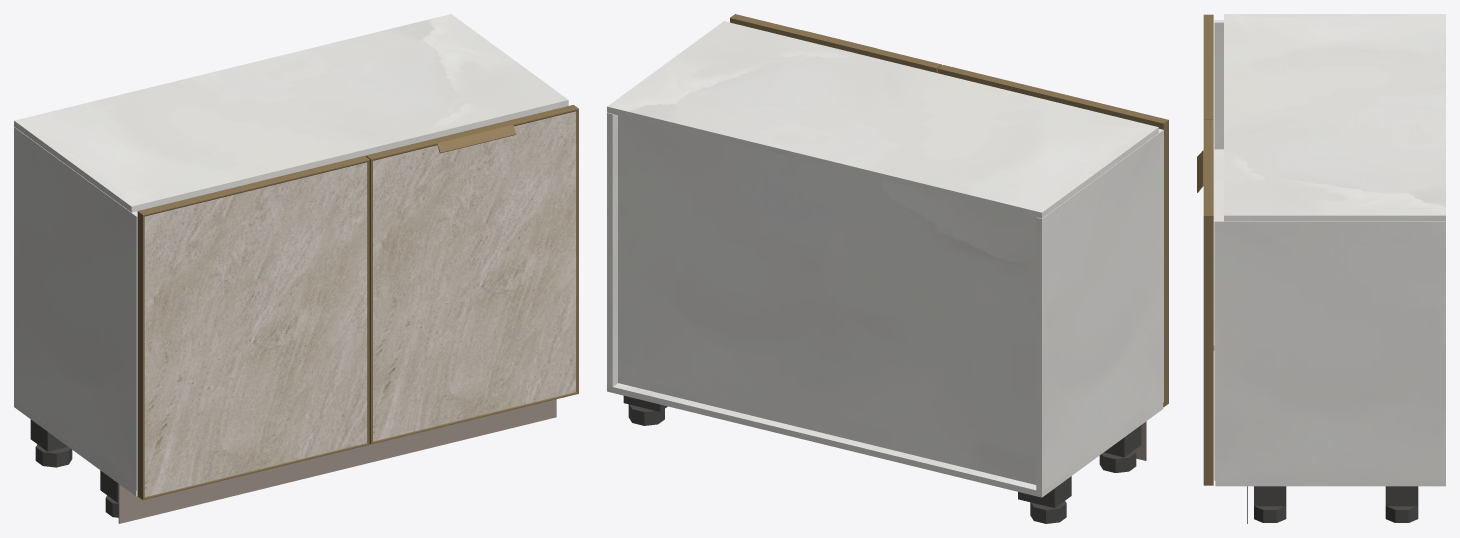
File: BB-SH-TTS-ST-1SX-LHS-XXX-1150-720-560-15.glb
3 renders of one model, left to right at view 1: azimuth 30°, elevation 25°; view 2: azimuth 150°, elevation 25°; view 3: azimuth 270°, elevation 25°, orthographic. The views are drawn at different scales.
Visible parts, largest first — view 1: Object_node_12, Object_node_14, TP_node_1, TP_node, Object_node_16, Extrusion_node_1, Extrusion, ExtrSplGeo, Extrusion_node_8, Extrusion_node, Extrusion_node_6, TP (+3 smaller); view 2: TP_node_3, TP_node_1, TP_node, TP, TP_node_0, Extrusion, Extrusion_node_1, ExtrSplGeo, Plate, Extrusion_node_4, Extrusion_node_5, Foot_node_0 (+1 smaller); view 3: TP_node_0, TP_node_1, Extrusion_node_6, TP, TP_node, Extrusion, TP_node_2, Plate_node, Plate_node_1, ExtrSplGeo, Foot_node, Foot_node_1 (+2 smaller).
Part boxes in pixels (left/top/right/bottom): Object_node_12: left=144, top=162, right=367, bottom=496; Object_node_14: left=373, top=111, right=576, bottom=441; TP_node_1: left=14, top=14, right=568, bottom=212; TP_node: left=14, top=127, right=137, bottom=490; Object_node_16: left=118, top=399, right=556, bottom=523; Extrusion_node_1: left=137, top=211, right=144, bottom=499; Extrusion: left=138, top=155, right=369, bottom=216; ExtrSplGeo: left=432, top=121, right=516, bottom=153; Extrusion_node_8: left=365, top=156, right=372, bottom=444; Extrusion_node: left=367, top=160, right=369, bottom=444; Extrusion_node_6: left=576, top=109, right=578, bottom=393; TP: left=14, top=401, right=137, bottom=496; TP_node_3: left=618, top=115, right=1036, bottom=484; TP_node_1: left=607, top=21, right=1158, bottom=218; TP_node: left=1036, top=128, right=1163, bottom=491; TP: left=607, top=383, right=1163, bottom=497; TP_node_0: left=607, top=112, right=617, bottom=386; Extrusion: left=938, top=65, right=1168, bottom=127; Extrusion_node_1: left=1158, top=120, right=1168, bottom=407; ExtrSplGeo: left=795, top=30, right=876, bottom=56; Plate: left=1018, top=476, right=1071, bottom=508; Extrusion_node_4: left=730, top=14, right=800, bottom=38; Extrusion_node_5: left=871, top=48, right=941, bottom=71; Foot_node_0: left=1099, top=450, right=1136, bottom=472; TP_node_0: left=1214, top=219, right=1445, bottom=480; TP_node_1: left=1224, top=14, right=1445, bottom=221; Extrusion_node_6: left=1203, top=216, right=1213, bottom=485; TP: left=1215, top=480, right=1445, bottom=486; TP_node: left=1214, top=20, right=1223, bottom=149; Extrusion: left=1203, top=15, right=1213, bottom=119; TP_node_2: left=1213, top=149, right=1223, bottom=350; Plate_node: left=1385, top=486, right=1418, bottom=506; Plate_node_1: left=1254, top=486, right=1286, bottom=506; ExtrSplGeo: left=1197, top=150, right=1213, bottom=192; Foot_node: left=1385, top=506, right=1418, bottom=522; Foot_node_1: left=1254, top=506, right=1286, bottom=522.
Size of what is drawn, in the model's own units: 1.15 by 0.82 by 0.6.
6 materials, 3 textured.
